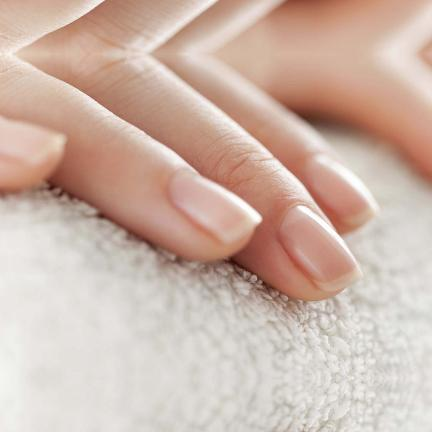Nail: (277, 204, 362, 290), (170, 170, 264, 242), (305, 156, 382, 227), (0, 116, 66, 165)
